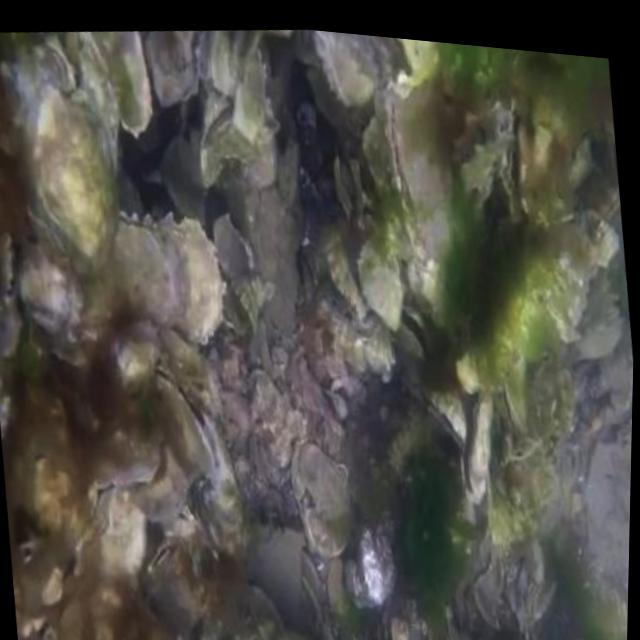Oyster-Closed: (387, 70, 456, 261), (110, 207, 194, 326), (152, 215, 223, 351), (283, 436, 356, 560), (154, 366, 221, 474), (424, 387, 467, 448), (497, 357, 527, 438), (44, 42, 75, 96), (0, 234, 16, 320), (147, 543, 174, 575)
Oyster-Indeterminate: (17, 77, 117, 278), (197, 437, 245, 558), (17, 250, 80, 338), (89, 426, 165, 489), (196, 586, 284, 640), (316, 31, 381, 103), (347, 520, 397, 613), (358, 237, 403, 328), (324, 224, 366, 313)
Oyster-Open: (451, 105, 516, 206), (504, 86, 533, 222), (460, 391, 494, 505), (397, 305, 430, 359)
